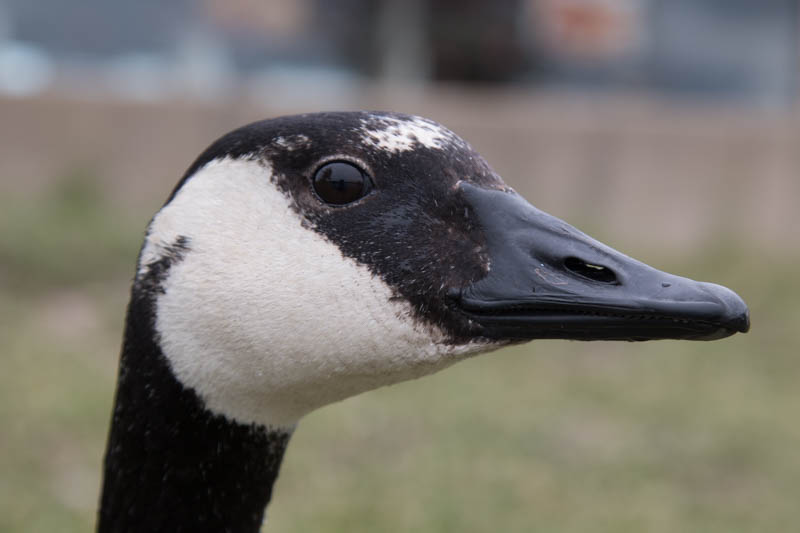goose-head: (118, 111, 751, 430)
